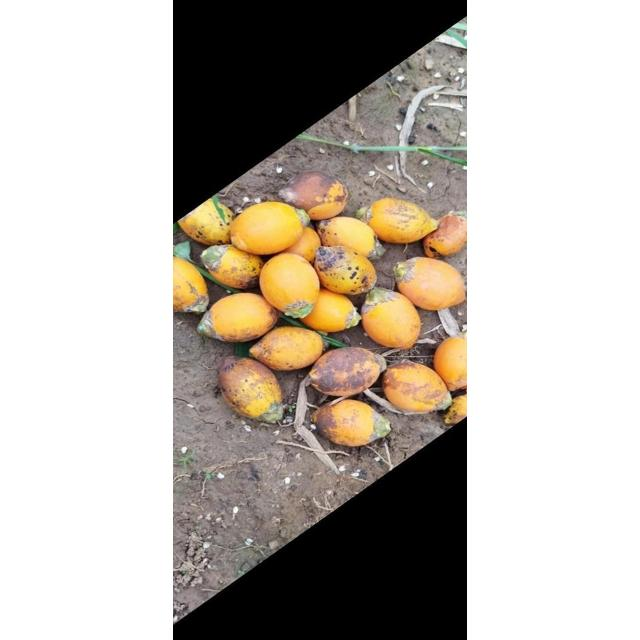good: (229, 201, 302, 258), (218, 360, 283, 424), (200, 294, 280, 345), (314, 398, 392, 450), (310, 347, 386, 398), (396, 258, 465, 312), (259, 254, 320, 314), (362, 289, 421, 351), (382, 364, 451, 415), (367, 198, 440, 246), (251, 326, 325, 372), (314, 246, 376, 300), (279, 174, 348, 222), (198, 244, 266, 292), (178, 198, 234, 247), (298, 290, 360, 334), (316, 217, 378, 259), (173, 256, 210, 314), (423, 214, 466, 261), (434, 337, 466, 400)
